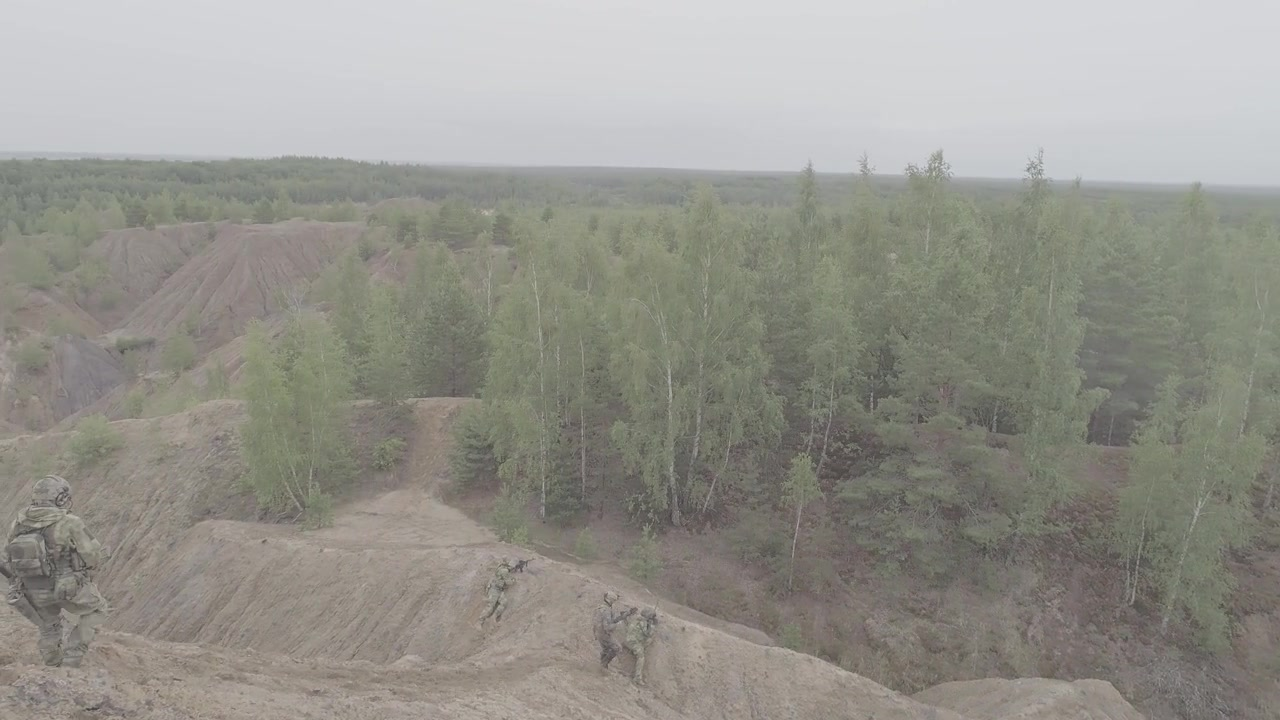person: (45, 474, 82, 674)
